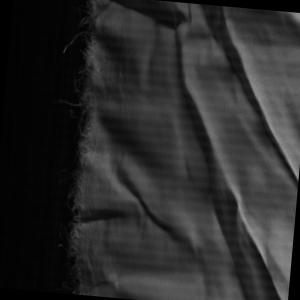Damage: (51, 1, 110, 296)
Wrinkle: (87, 1, 300, 300)
